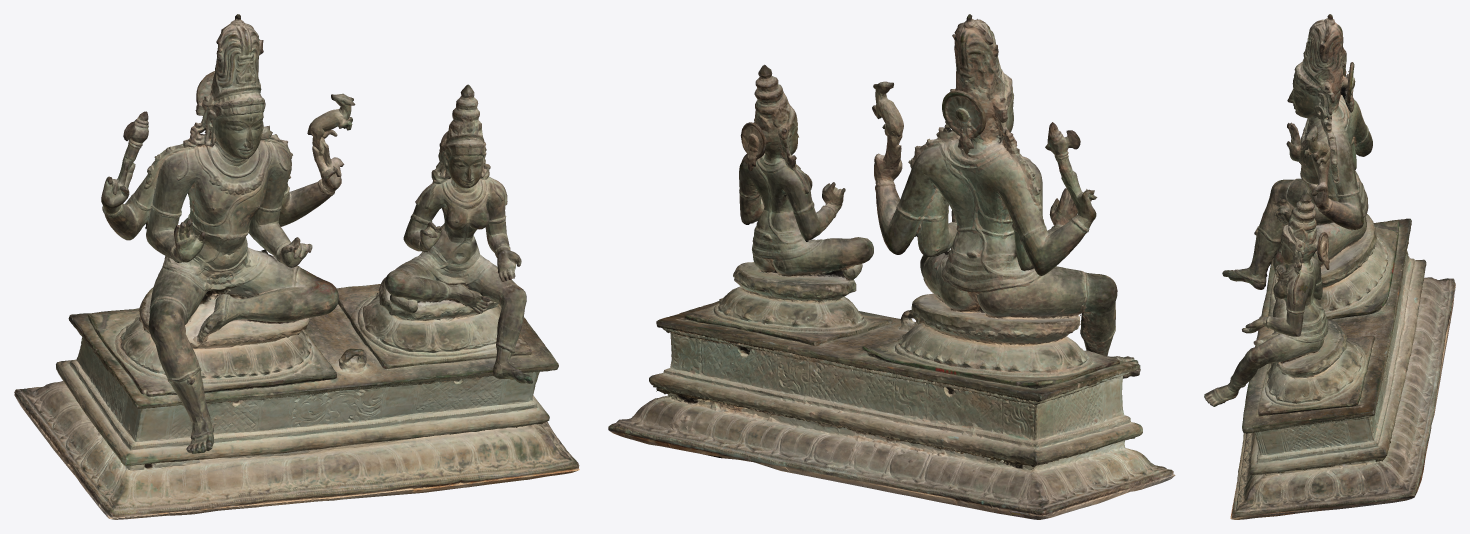
Rendered from Mia_006224_Somaskanda_100k.obj.
3 views of the same model, side by side, from view 1: azimuth 30°, elevation 25°; view 2: azimuth 150°, elevation 25°; view 3: azimuth 270°, elevation 25° (orthographic). The views are drawn at different scales.
Size of the model in its own units: 0.688 by 0.6772 by 0.3916.
1 material, 1 textured.
